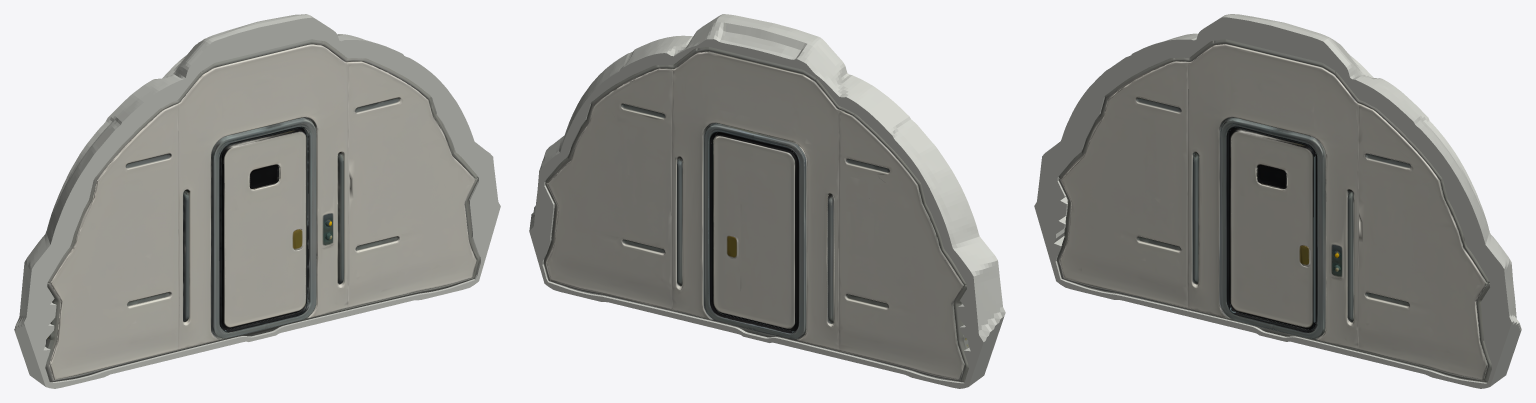
File: inner-airlock-closed-v7.glb
The picture shows the model from 3 angles, left to right: view 1: azimuth 30°, elevation 25°; view 2: azimuth 150°, elevation 25°; view 3: azimuth 330°, elevation 25°; orthographic projection. The views are drawn at different scales.
Parts seen in each view (by area): view 1: InnerDoorFrame, InnerDoorLeaf, InnerDoorGasket; view 2: InnerDoorFrame, InnerDoorLeaf; view 3: InnerDoorFrame, InnerDoorLeaf, InnerDoorGasket.
Boxes of the visible parts, x1,y1,x2,y2 form: InnerDoorFrame: (14,14,500,388); InnerDoorLeaf: (219,127,306,330); InnerDoorGasket: (221,127,307,331); InnerDoorFrame: (529,14,1005,388); InnerDoorLeaf: (713,132,798,331); InnerDoorFrame: (1034,14,1521,388); InnerDoorLeaf: (1229,127,1315,329); InnerDoorGasket: (1228,127,1313,331).
Size of the model in its own units: 1.13 by 0.7084 by 0.0852.
Materials: 4 (1 with a texture image).
